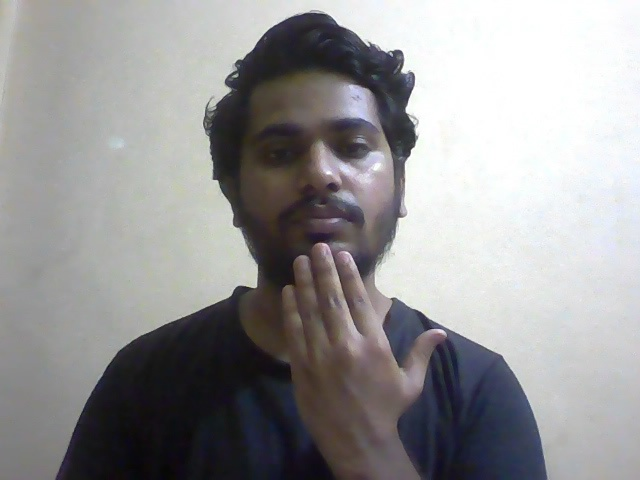Thankyou: (191, 4, 461, 459)
